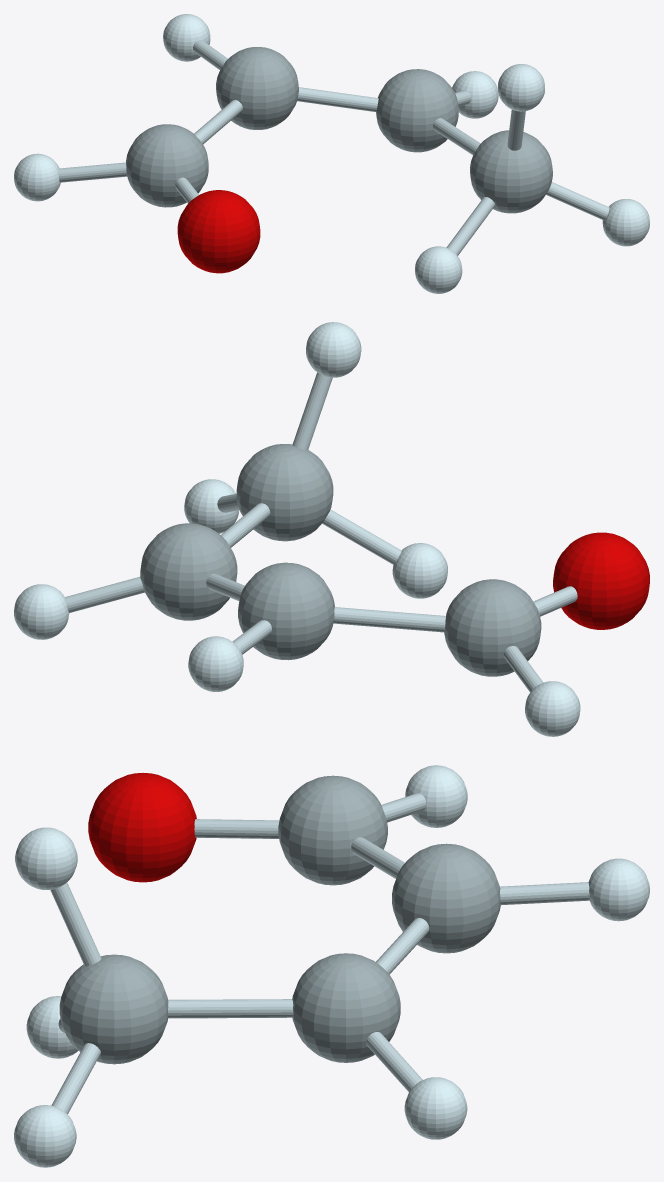
Rendered from irc_042.glb.
3 views of the same model, one above another, from view 1: azimuth 30°, elevation 25°; view 2: azimuth 150°, elevation 25°; view 3: azimuth 270°, elevation 25° (orthographic). The views are drawn at different scales.
Visible parts, largest first — view 1: Renderer Node; view 2: Renderer Node; view 3: Renderer Node.
Boxes of the visible parts, x1=… form: Renderer Node: x1=14, y1=14, x2=649, y2=293; Renderer Node: x1=14, y1=322, x2=649, y2=736; Renderer Node: x1=14, y1=765, x2=649, y2=1167.
Bounding box in the file's own units: 4.66 × 1.94 × 4.05.
